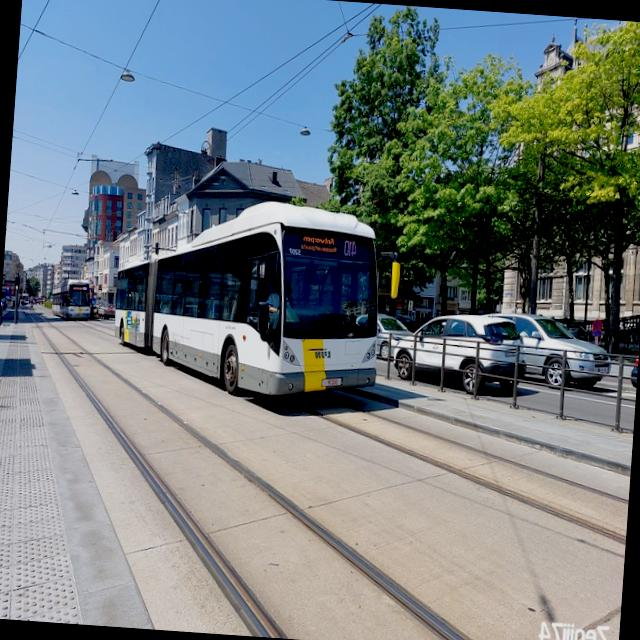bus-number: (342, 240, 358, 257)
